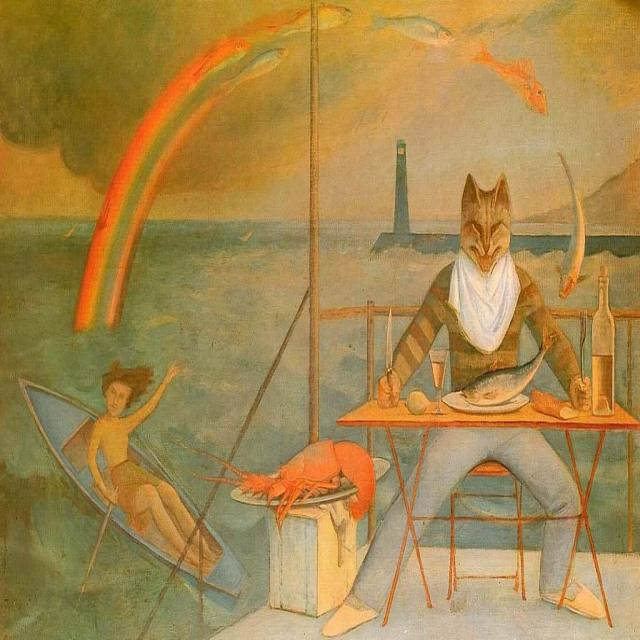table: (329, 347, 640, 608)
